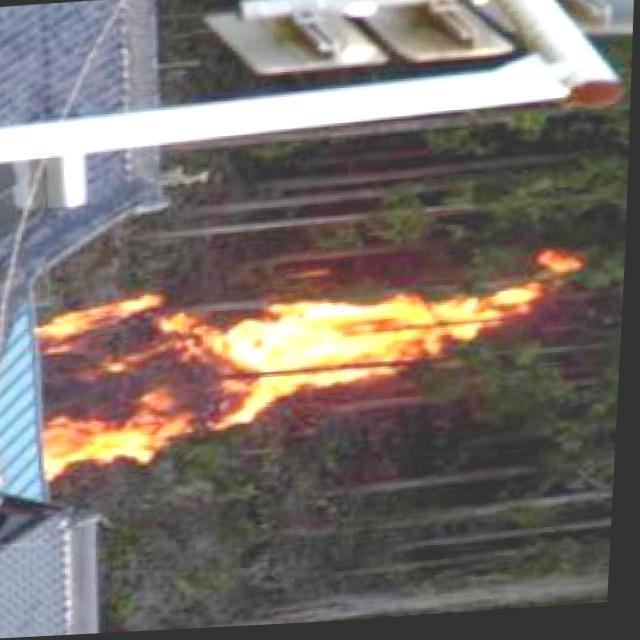Fire: (31, 271, 573, 477)
